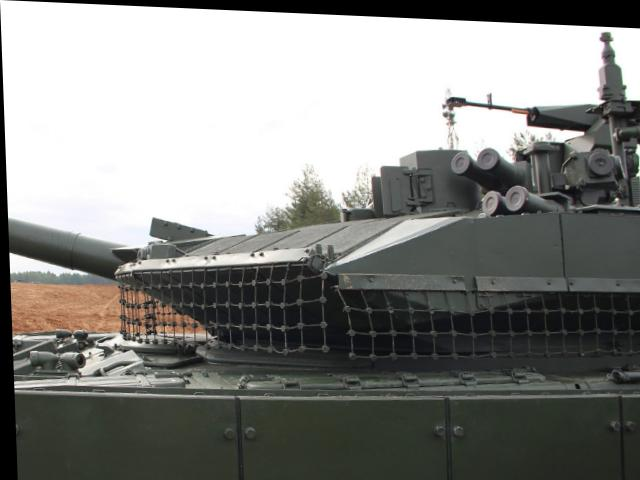tank: (1, 11, 640, 480)
